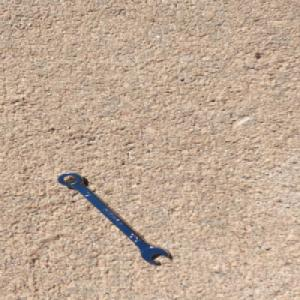Wrench: (56, 171, 173, 266)
